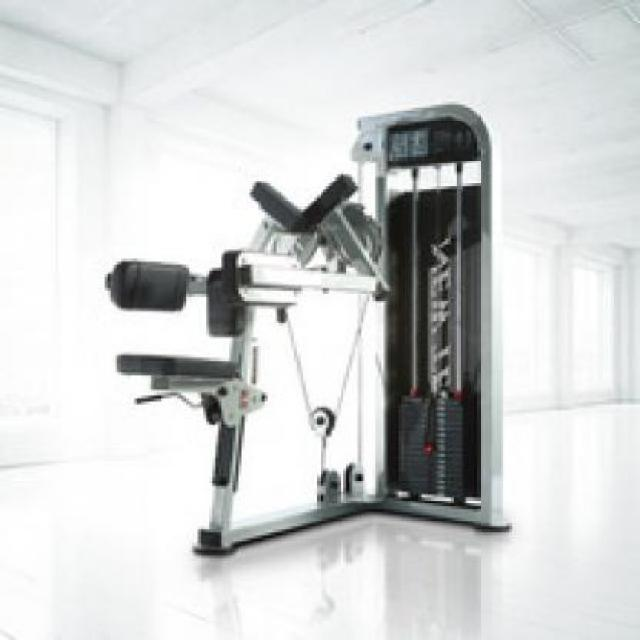lateral raises machine: (238, 106, 514, 539)
